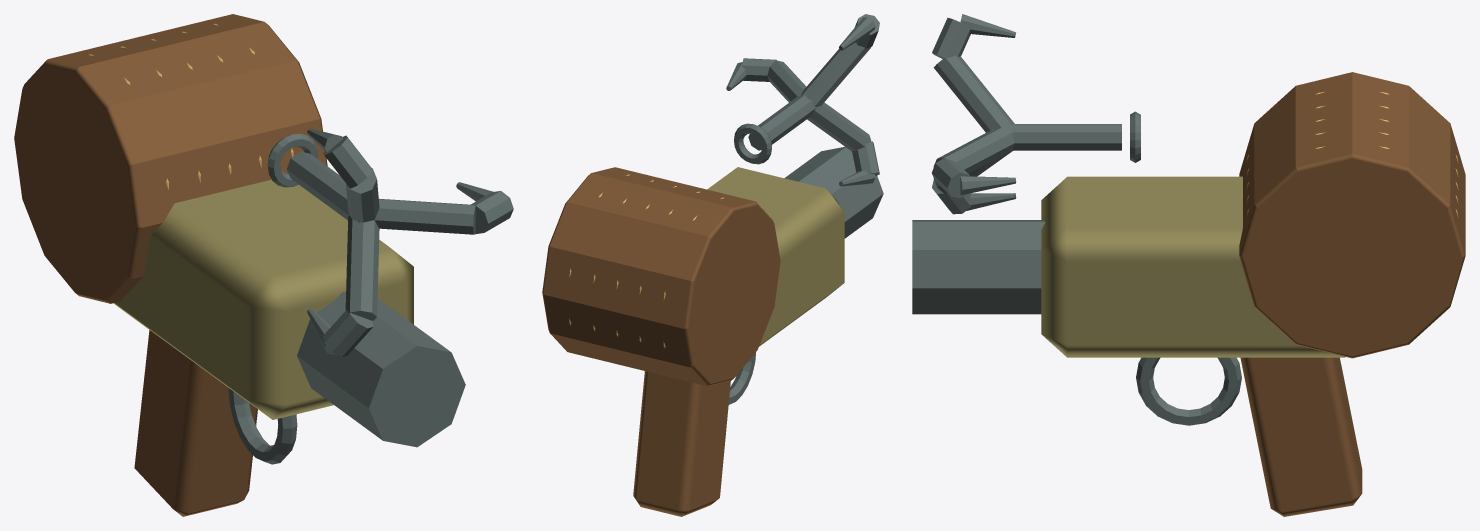
Rendered from GrappleHook.glb.
3 renders of one model, left to right at view 1: azimuth 30°, elevation 25°; view 2: azimuth 150°, elevation 25°; view 3: azimuth 270°, elevation 25°, orthographic. The views are drawn at different scales.
Visible parts, largest first — view 1: GrappleHook; view 2: GrappleHook; view 3: GrappleHook.
Part boxes in pixels (<box>): GrappleHook: <box>14,14,513,516</box>; GrappleHook: <box>542,14,883,516</box>; GrappleHook: <box>912,14,1465,516</box>.
Size of the model in its own units: 0.1567 by 0.3593 by 0.386.
